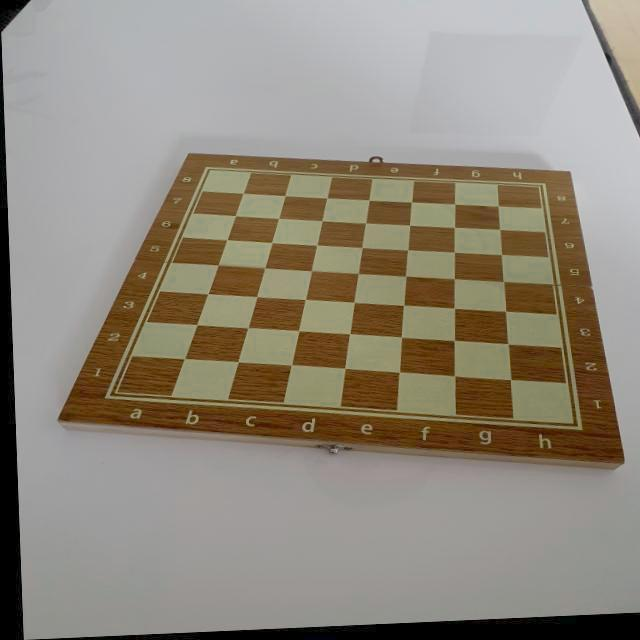chess-table-corners: (192, 162, 222, 181), (560, 423, 584, 439), (530, 184, 551, 198), (99, 388, 119, 401)
